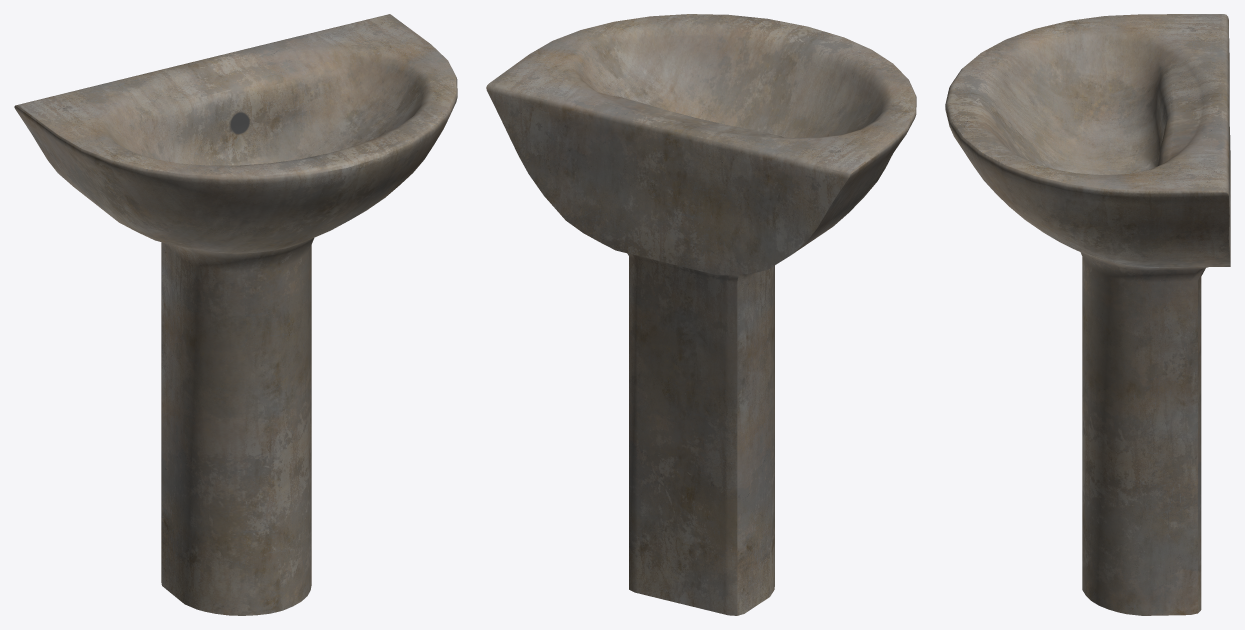
File: DirtySink2.glb
The picture shows the model from 3 angles, left to right: view 1: azimuth 30°, elevation 25°; view 2: azimuth 150°, elevation 25°; view 3: azimuth 270°, elevation 25°; orthographic projection. The views are drawn at different scales.
Visible parts, largest first — view 1: lavabo_0; view 2: lavabo_0; view 3: lavabo_0.
Boxes of the visible parts, box(x1,y1,x2,y2) form: lavabo_0: box(14, 14, 457, 615); lavabo_0: box(486, 14, 916, 615); lavabo_0: box(945, 14, 1230, 615).
Size of the model in its own units: 0.9063 by 1.15 by 0.616.
Materials: 1 (1 with a texture image).
